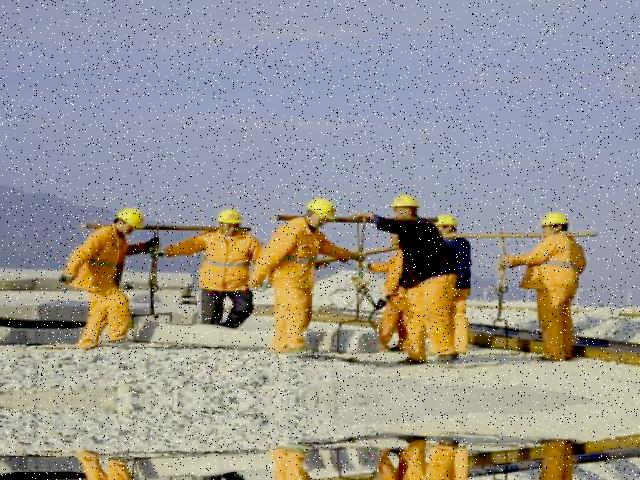Helmet: (302, 195, 346, 222), (114, 203, 151, 232), (213, 204, 250, 232), (541, 210, 575, 235), (386, 192, 428, 212), (434, 209, 465, 233)
